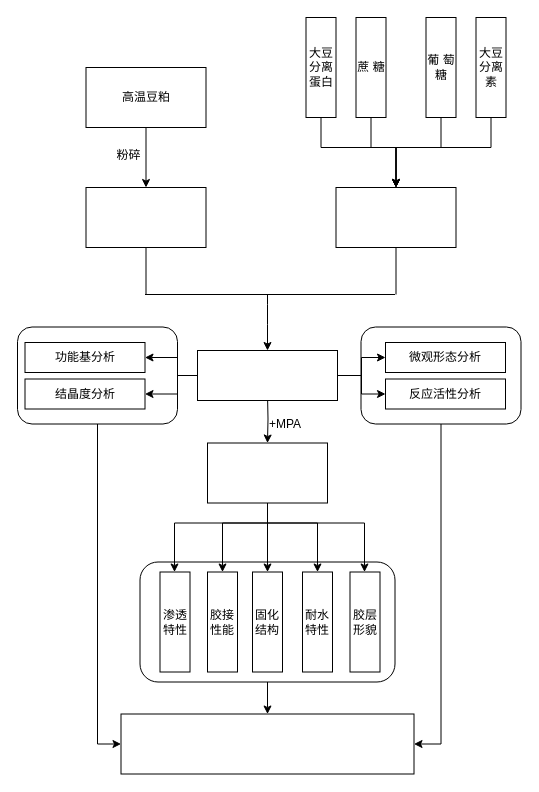
This 539x792 diagram has some shape labels left out. The shapes that lost their labels are listed below. From the top down, each one's box as (x1, y1, x2, y2) in pixels, then its label:
(85, 186, 206, 248): 高温豆粕粉
(335, 186, 456, 248): 高温豆粕粉模型
(196, 350, 338, 400): 热化学改性高温豆粕粉
(206, 442, 328, 503): 高温豆粕粉胶粘剂
(120, 713, 414, 774): 热化学改性对大豆胶粘剂结构与性能的作用机理
